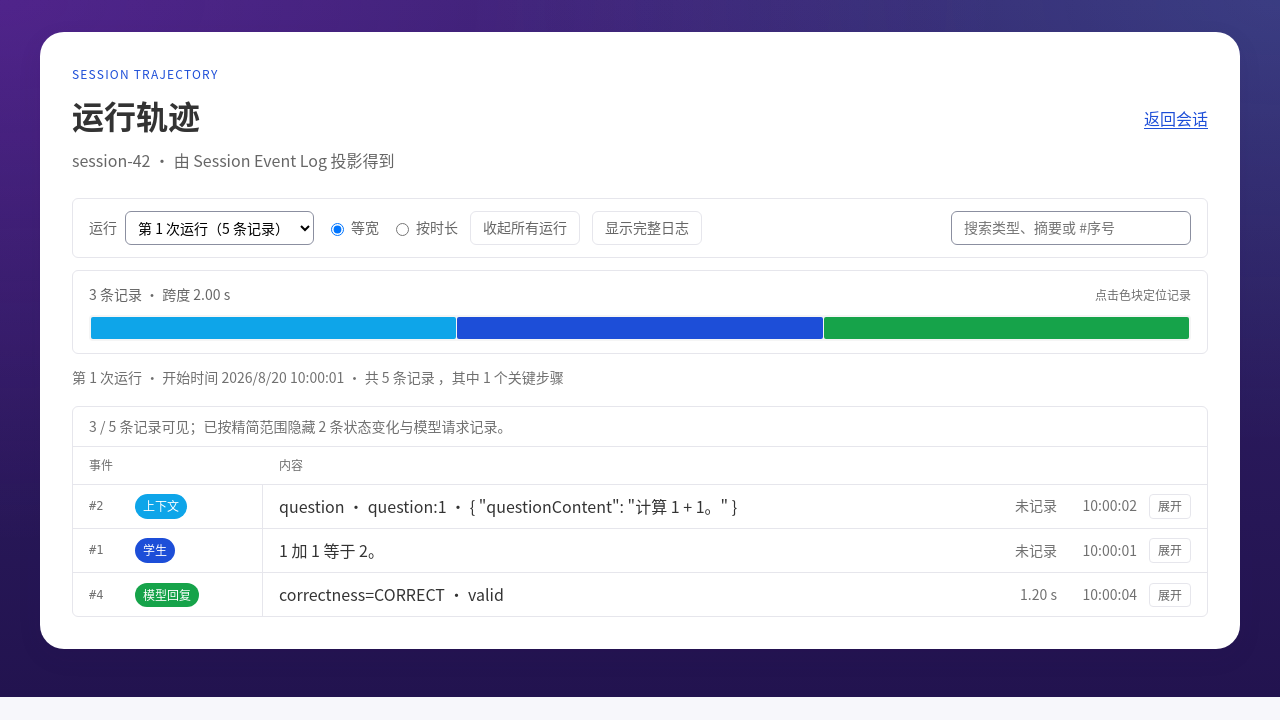
Scenario: SessionEventLogView › 搜索高亮命中记录，收起运行后只保留一行摘要
Type "模型" into the search field named "搜索轨迹" at (1071, 228), box [951,211,1191,245]
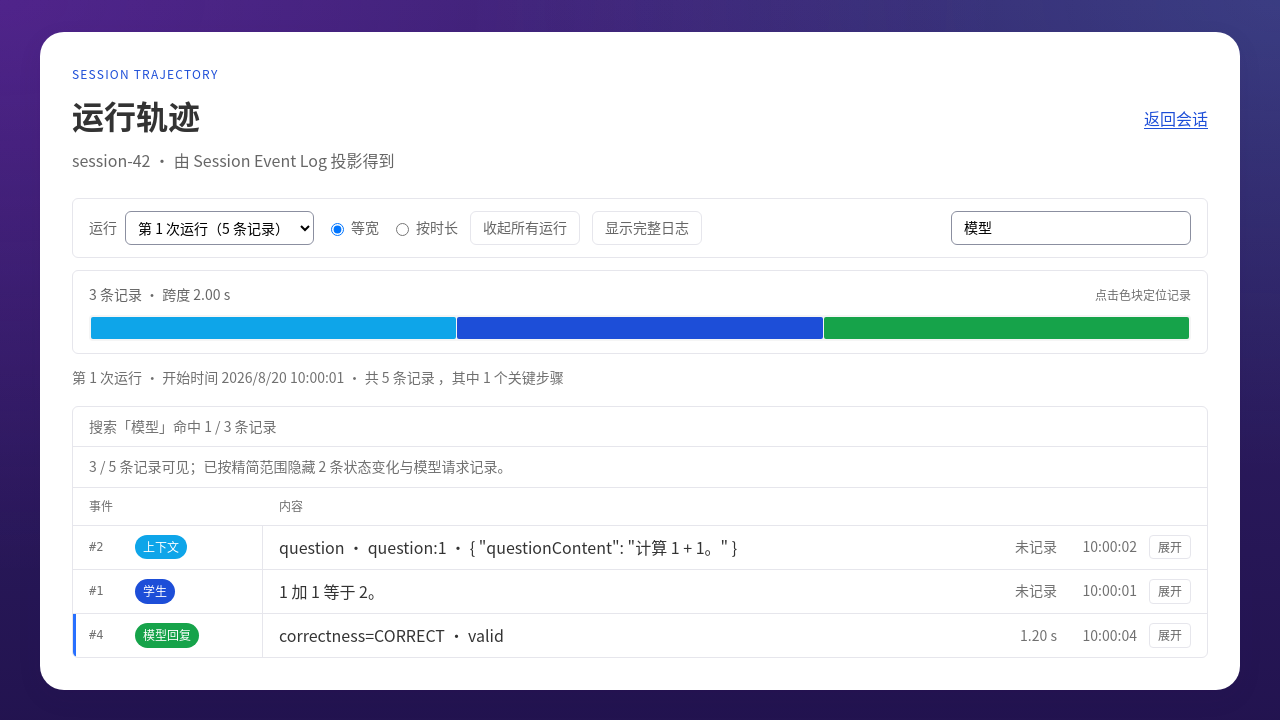
expect the number of elements with class "record-row" is 1: met, box [73,613,1207,657]
expect the text "搜索「模型」命中 1 / 3 条记录" is shown: met, box [73,407,1207,447]
Click the button with class "toolbar-button" showing "收起所有运行" at (525, 228), box [470,211,580,245]
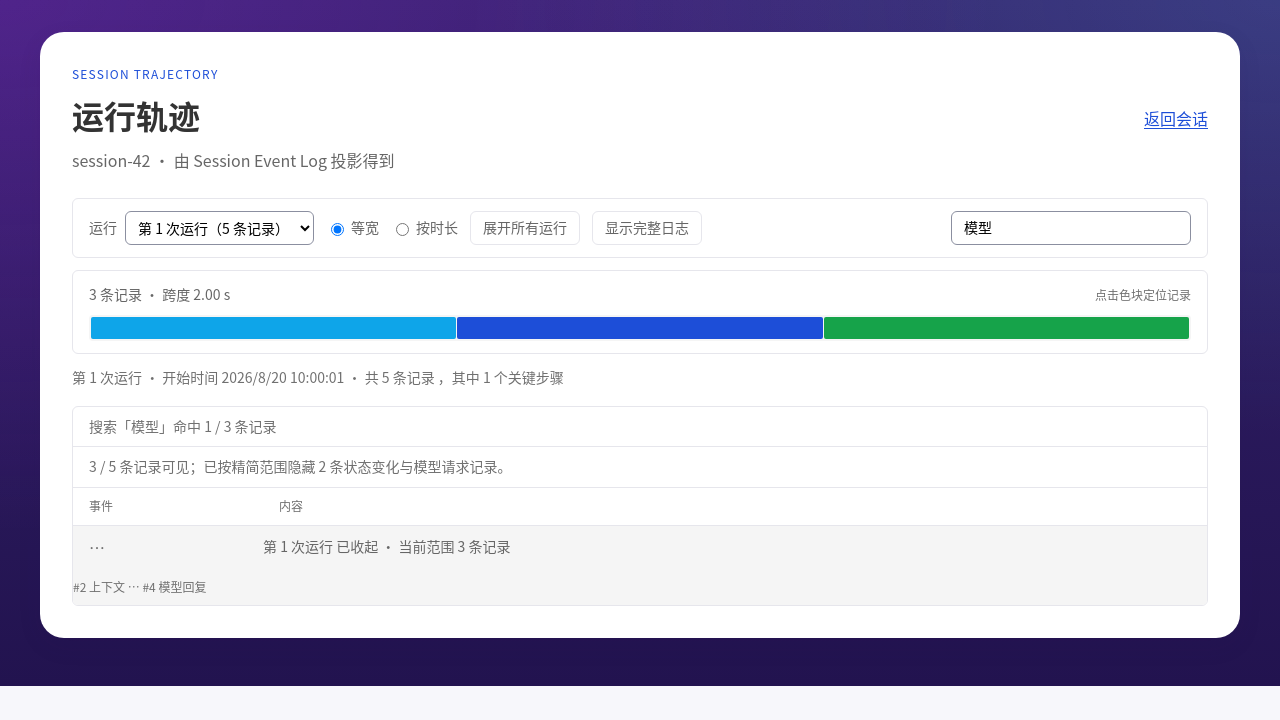
expect no elements with class "record-row" are shown: met
expect the button with class "group-row" shows "已收起": met, box [73,526,1207,605]
expect the button with class "group-row" shows "当前范围 3 条记录": met, box [73,526,1207,605]
